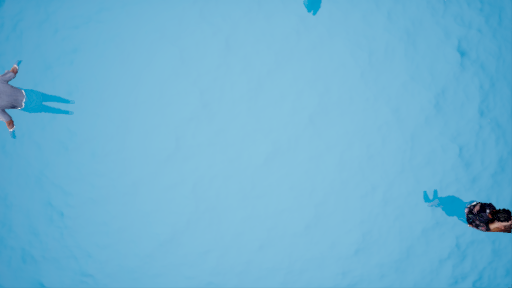person: (1, 56, 77, 141), (407, 184, 512, 237)
